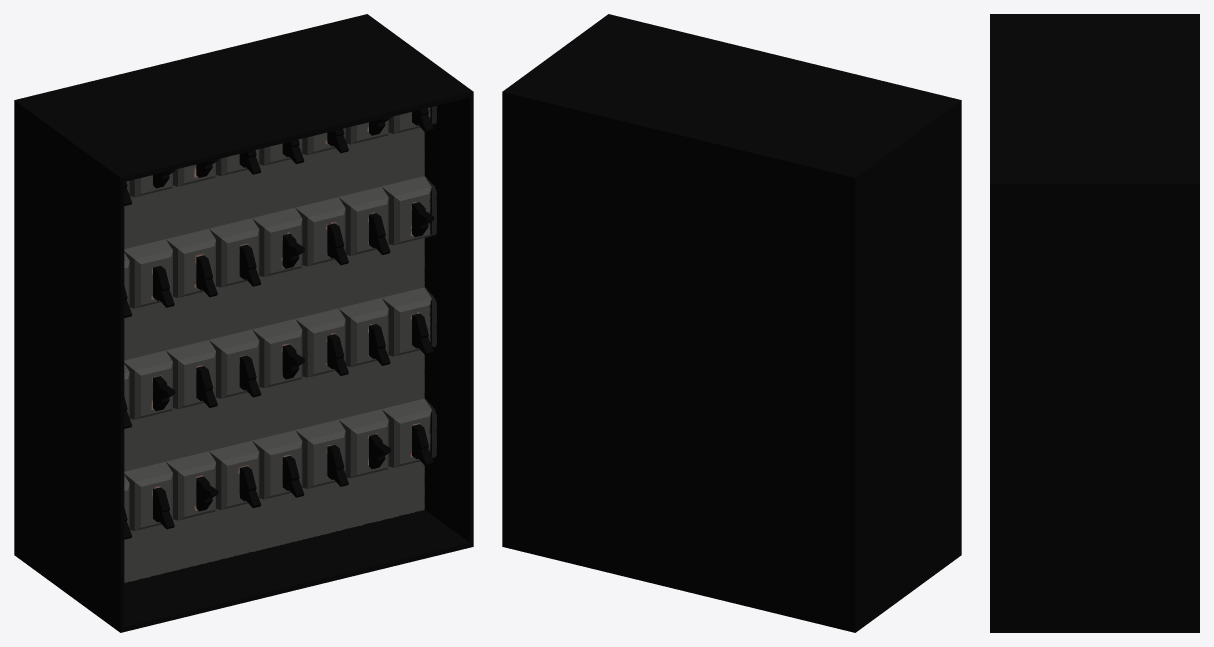
The model's file is Disjoncteur.fbx.
3 renders of one model, left to right at view 1: azimuth 30°, elevation 25°; view 2: azimuth 150°, elevation 25°; view 3: azimuth 270°, elevation 25°, orthographic.
Parts seen in each view (by area): view 1: Disjoncteur bake; view 2: Disjoncteur bake; view 3: Disjoncteur bake.
Part boxes in pixels (x1=…): Disjoncteur bake: x1=14, y1=14, x2=473, y2=632; Disjoncteur bake: x1=502, y1=14, x2=961, y2=632; Disjoncteur bake: x1=990, y1=14, x2=1199, y2=632.
Size of the model in its own units: 59.8 by 73.62 by 31.18.
